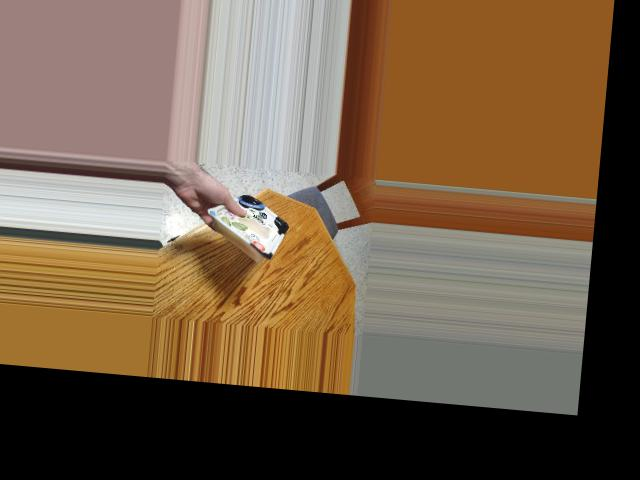cheese: (208, 190, 296, 277)
